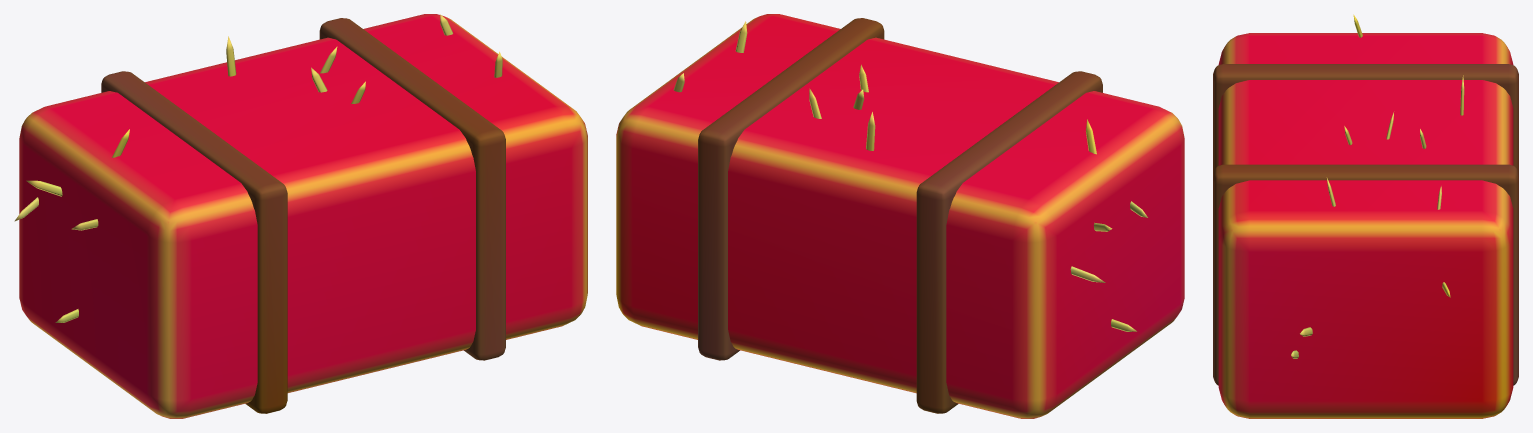
Rendered from Prop_HayBale.glb.
3 renders of one model, left to right at view 1: azimuth 30°, elevation 25°; view 2: azimuth 150°, elevation 25°; view 3: azimuth 270°, elevation 25°, orthographic. The views are drawn at different scales.
Visible parts, largest first — view 1: HayBale; view 2: HayBale; view 3: HayBale.
Boxes of the visible parts, bbox=[...] form: HayBale: bbox=[14, 14, 587, 418]; HayBale: bbox=[616, 14, 1184, 418]; HayBale: bbox=[1213, 14, 1518, 418].
Bounding box in the file's own units: 0.952 × 0.4813 × 0.54.
